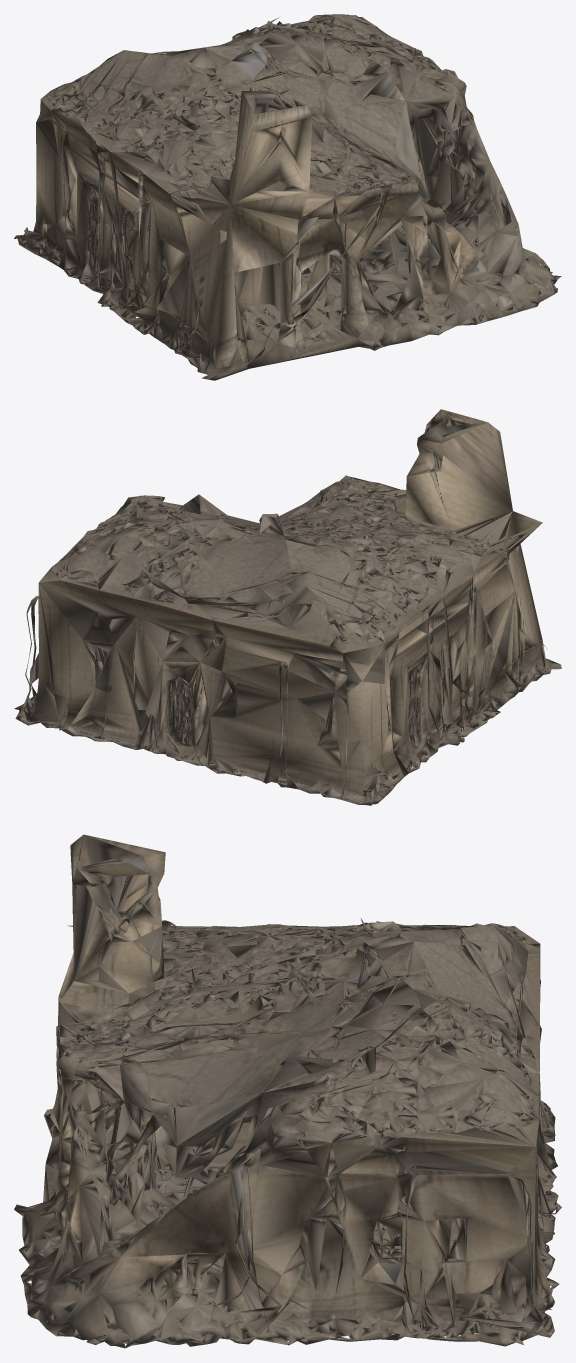
The model's file is hall_wreck.glb.
3 views of the same model, one above another, from view 1: azimuth 30°, elevation 25°; view 2: azimuth 150°, elevation 25°; view 3: azimuth 270°, elevation 25° (orthographic). The views are drawn at different scales.
Parts seen in each view (by area): view 1: wall, metal; view 2: wall, metal; view 3: wall, metal.
Part boxes in pixels (left/top/right/bottom): wall: left=14, top=14, right=561, bottom=380; metal: left=41, top=14, right=447, bottom=378; wall: left=14, top=409, right=560, bottom=805; metal: left=39, top=480, right=561, bottom=783; wall: left=14, top=834, right=561, bottom=1348; metal: left=45, top=923, right=555, bottom=1345.
Size of the model in its own units: 9.47 by 5.84 by 9.15.
Materials: 1 (1 with a texture image).
